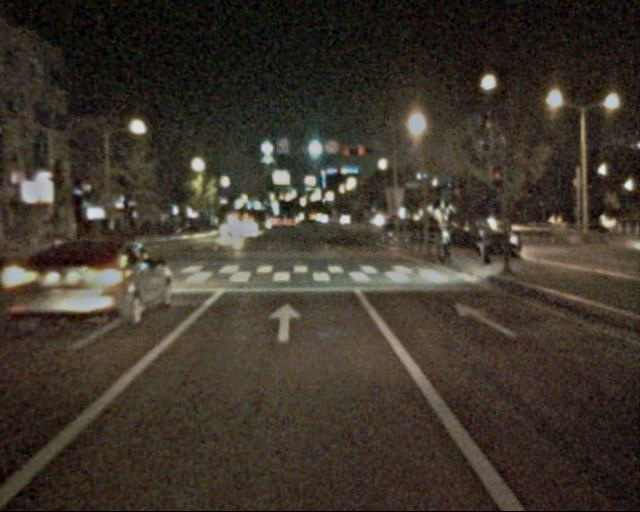person: (471, 218, 495, 276), (435, 221, 454, 268)
